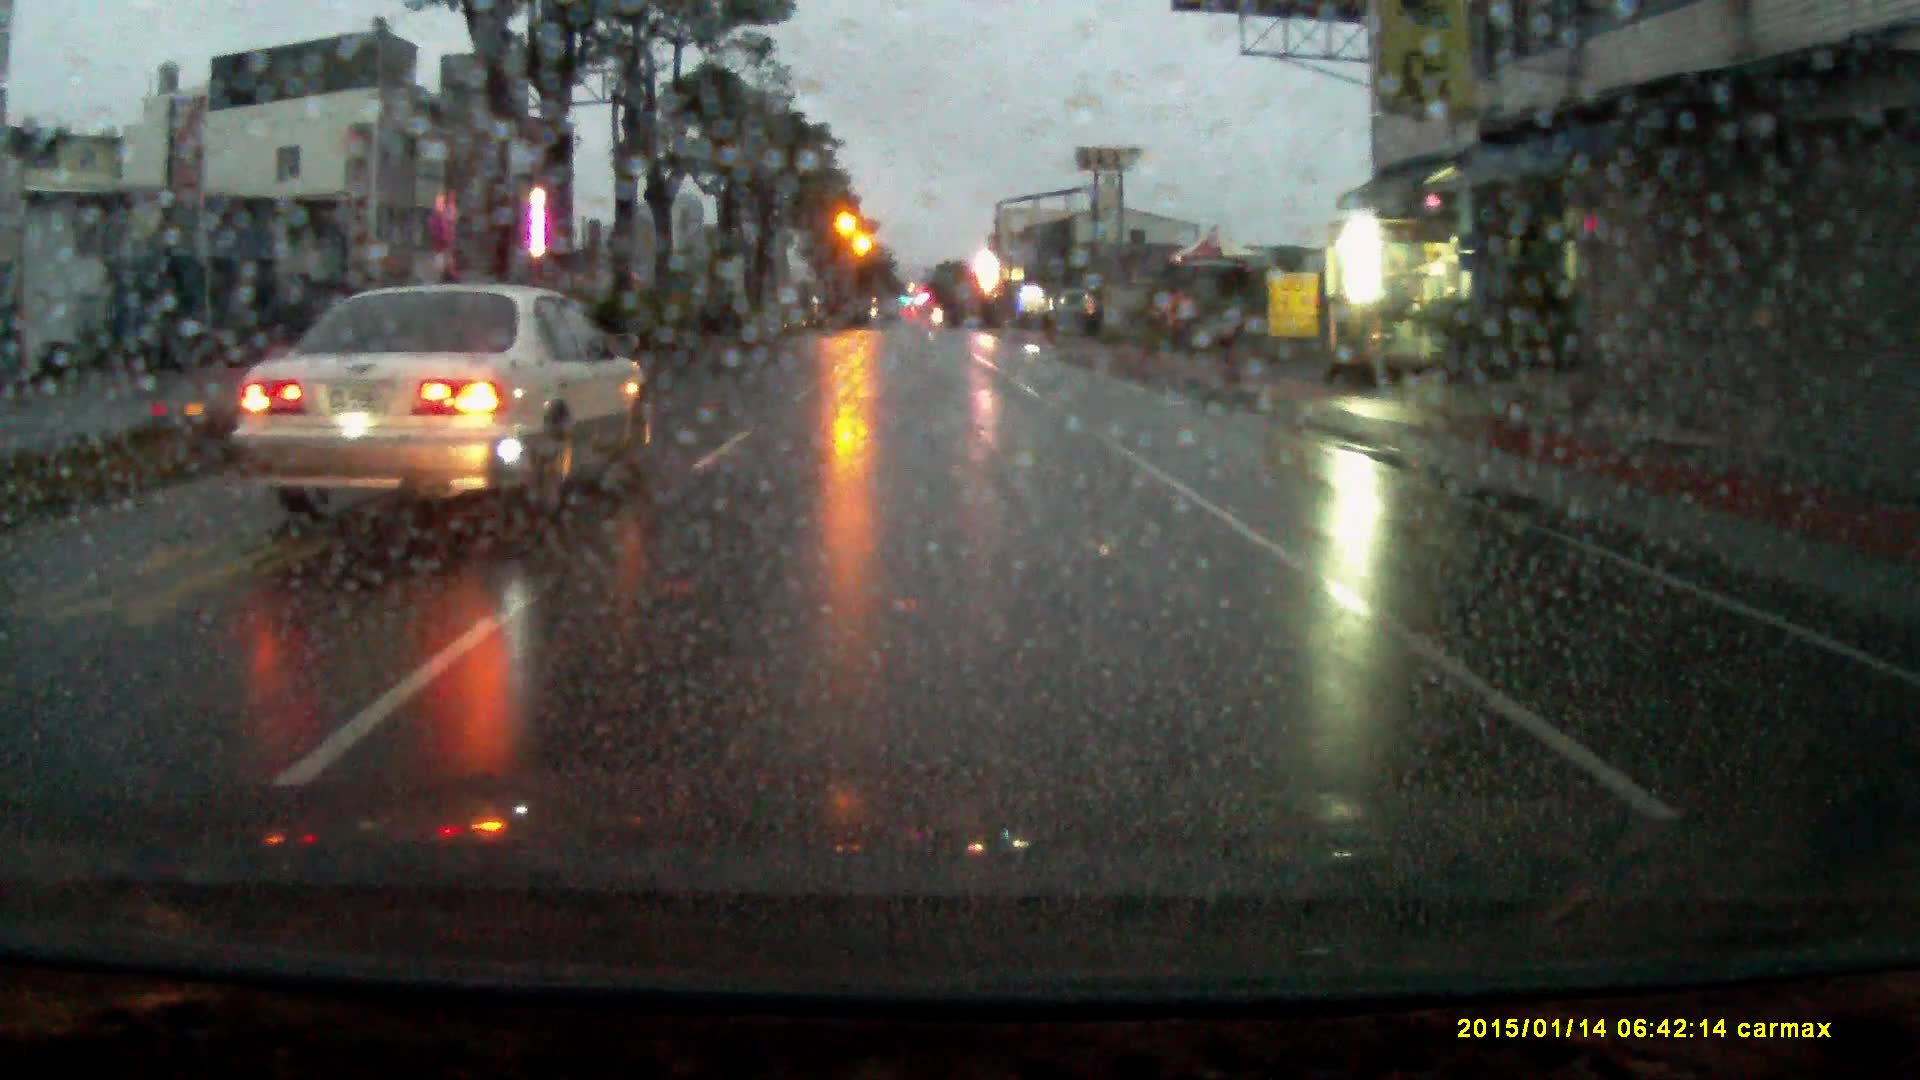vehicle: (228, 289, 655, 533)
